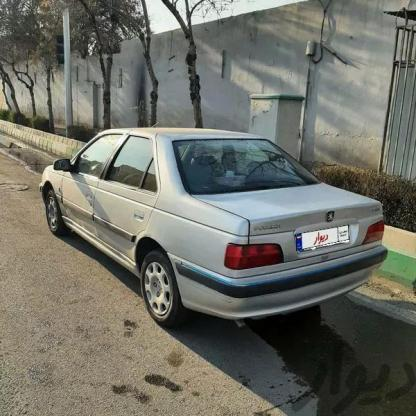Car: (29, 123, 381, 340)
